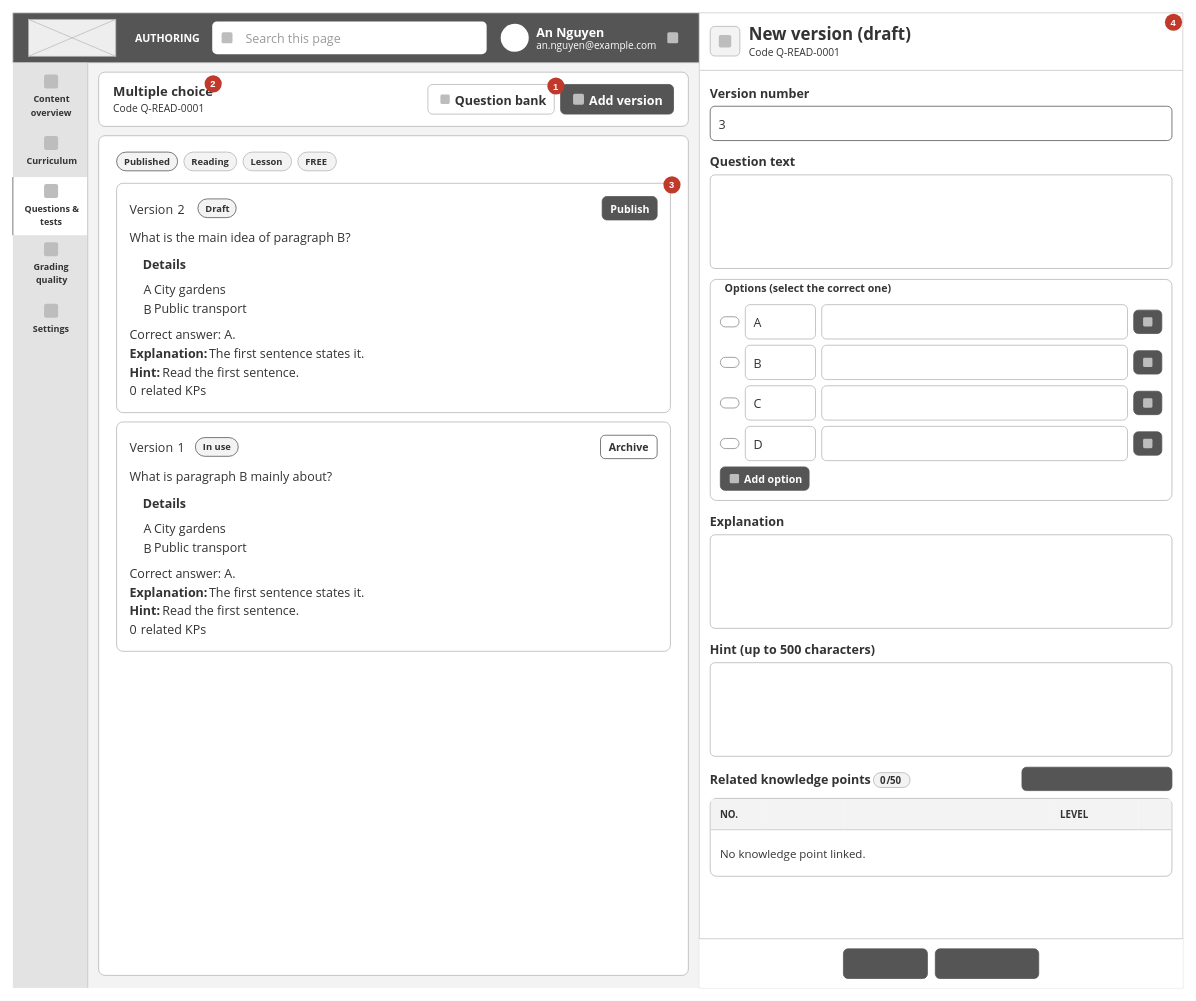
This 1196x1001 diagram has some shape labels left out. The shapes that lost their labels are listed below. From the top down, each one's box as (x1, y1, x2, y2) in pixels, then its label:
(500, 23, 528, 51): AN
(1021, 766, 1172, 791): Choose knowledge points
(760, 799, 843, 829): CODE
(843, 799, 1051, 829): KNOWLEDGE POINT
(843, 948, 927, 979): Cancel
(935, 948, 1039, 979): Save draft
